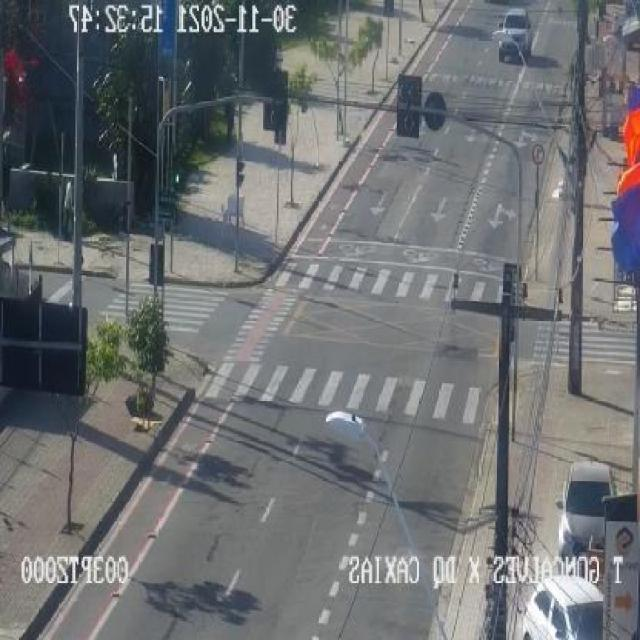car: (522, 575, 604, 640), (559, 462, 612, 556), (496, 9, 531, 63)
traffic-lights: (234, 104, 245, 272), (149, 244, 164, 286)
